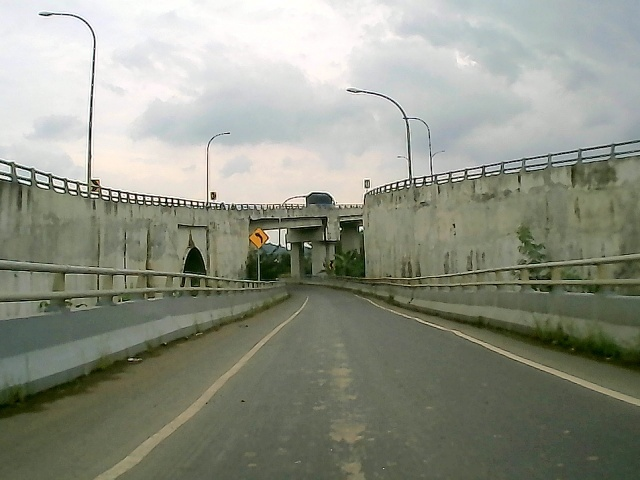Tikungan ke kiri: (247, 225, 270, 250)
